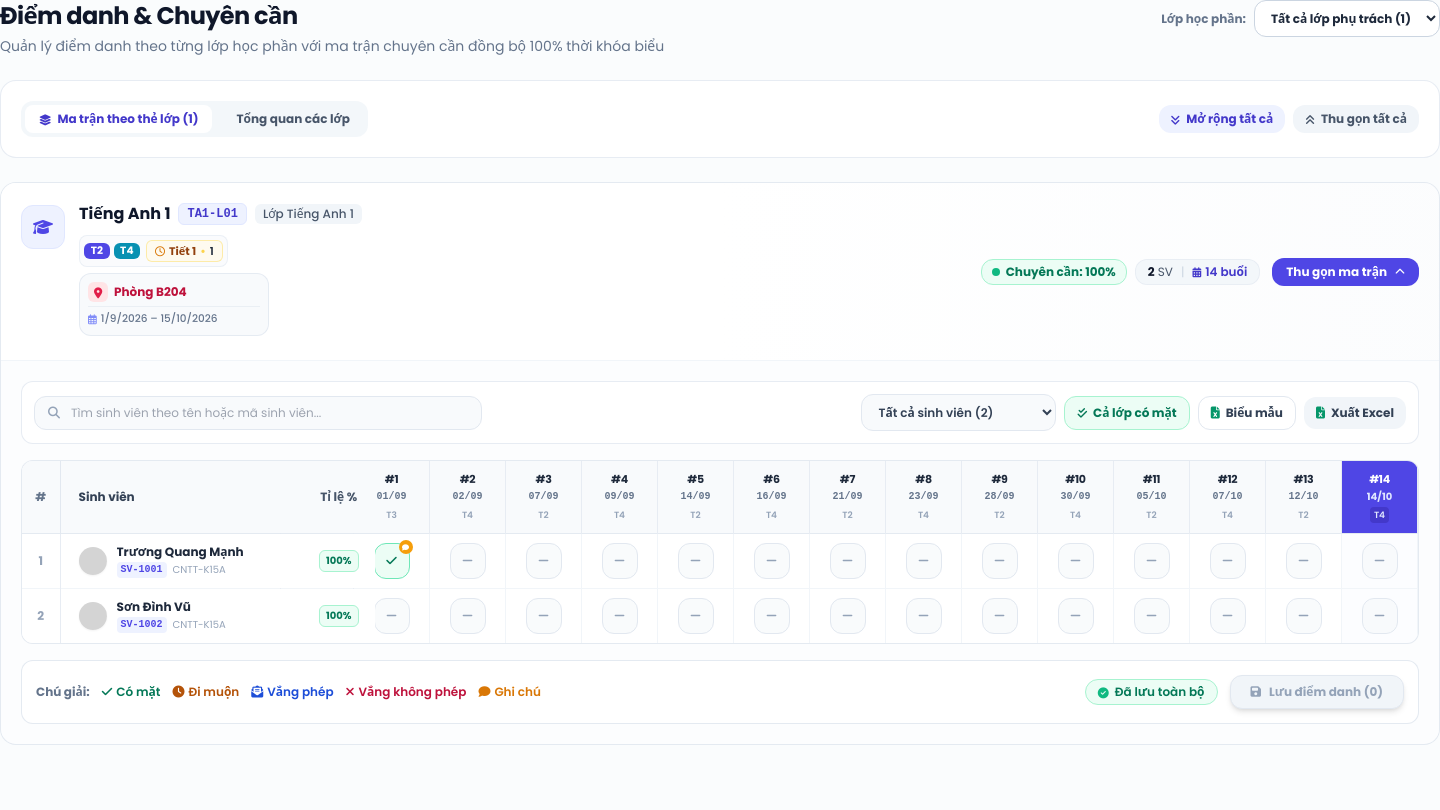
TeacherAttendance - LMS Matrix Attendance Grid › loads and binds existing note, evaluation, score, and status into modal when opened
Expected: the heading "Trương Quang Mạnh" is shown, [116,544,244,560]
Click the button named "Sinh viên: Trương Quang Mạnh Buổi #1 (01/09) Trạng thái: Có" at (392, 561), box [374,543,410,579]
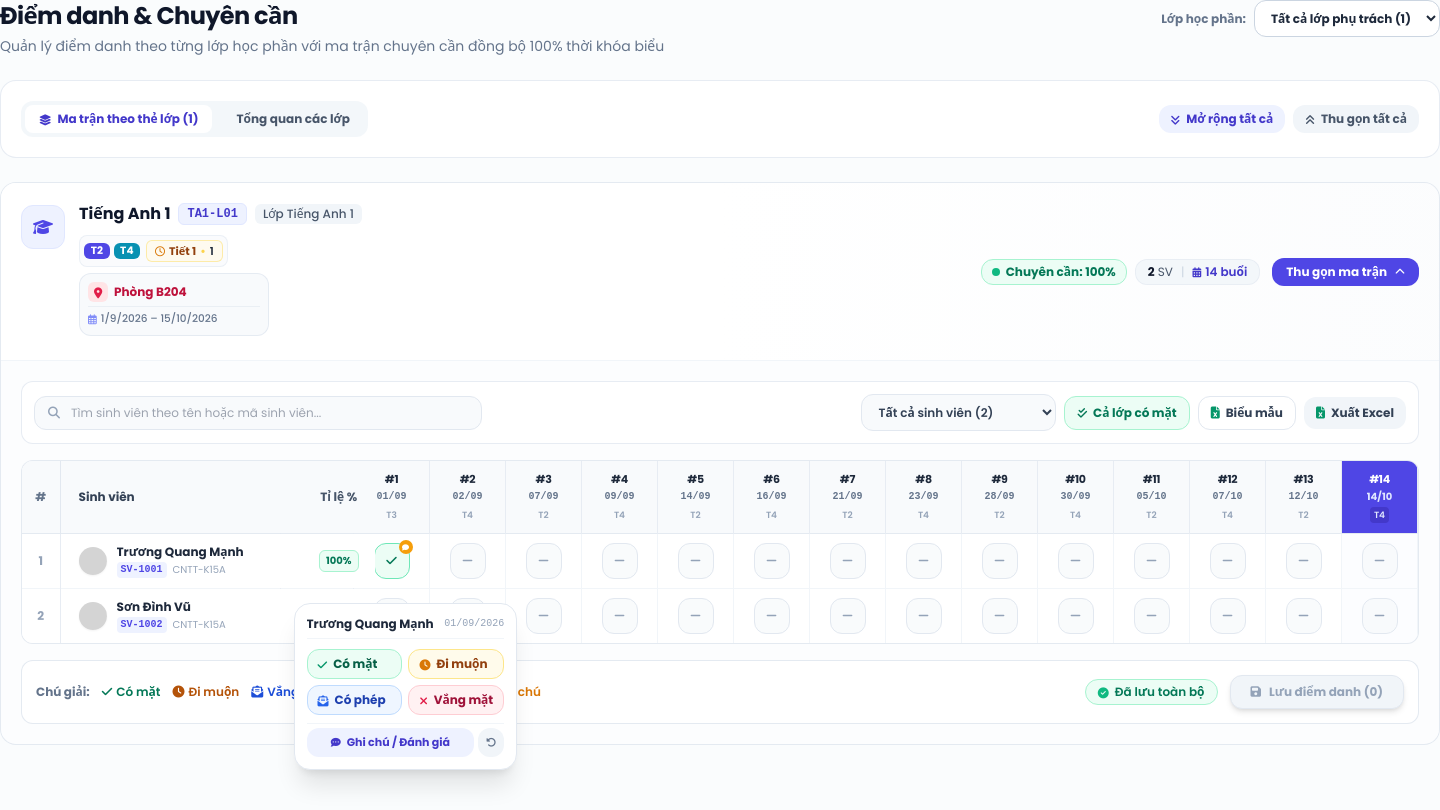
# Click "Ghi chú / Đánh giá" in popover
Click the button "Ghi chú / Đánh giá" at (390, 742), box [306,728,474,756]
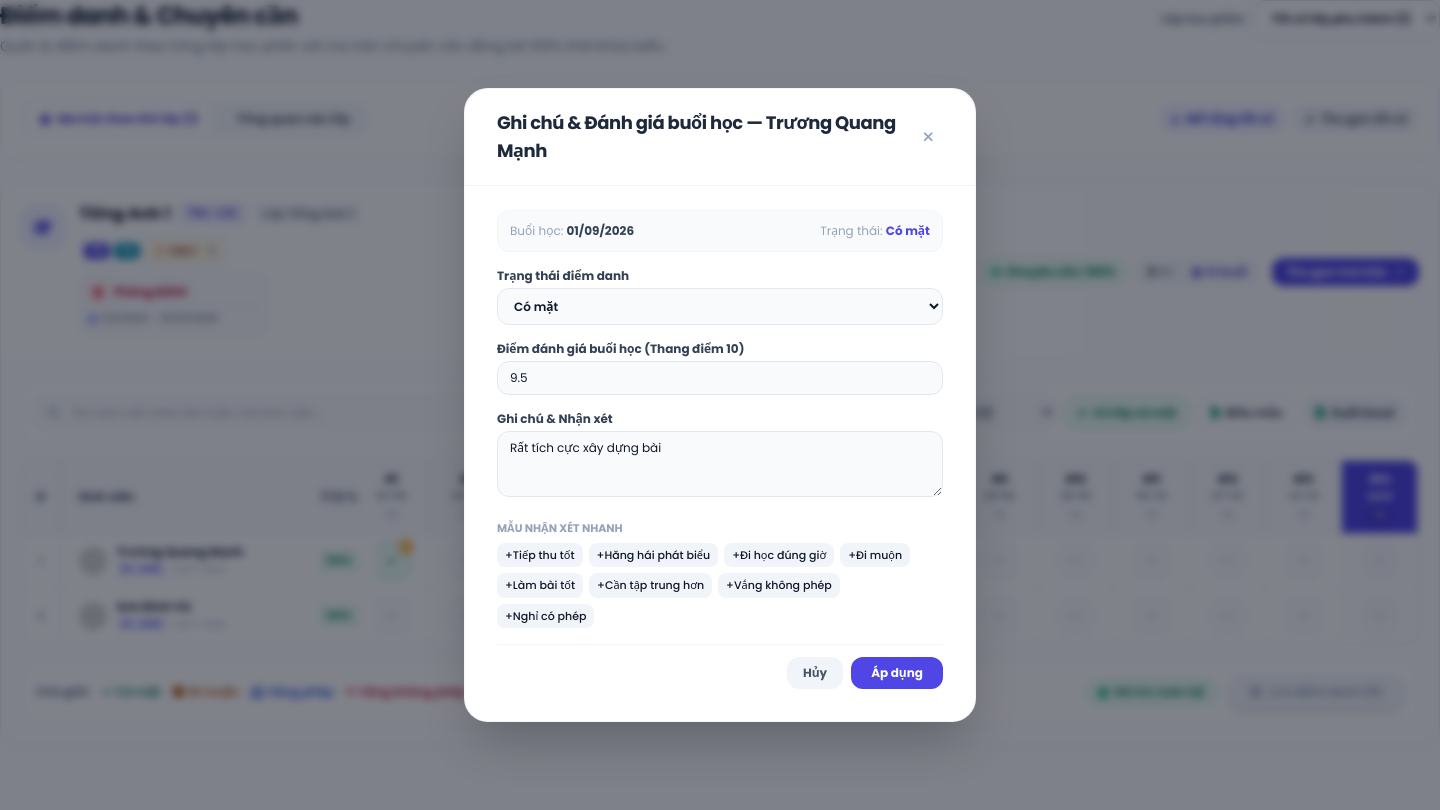
Expected: the heading "Ghi chú & Đánh giá buổi học — Trương Quang Mạnh" is shown, [497,109,914,165]
Expected: the dropdown showing "Có mặt" is shown, [497,288,943,325]
Expected: the number field showing "9.5" is shown, [497,361,943,395]
# Verify updating note via quick tags or textarea works and saves
Replace the text in the text box showing "Rất tích cực xây dựng bài" with "Rất tích cực xây dựng bài; Làm bài tốt" at (720, 464), box [497,431,943,497]
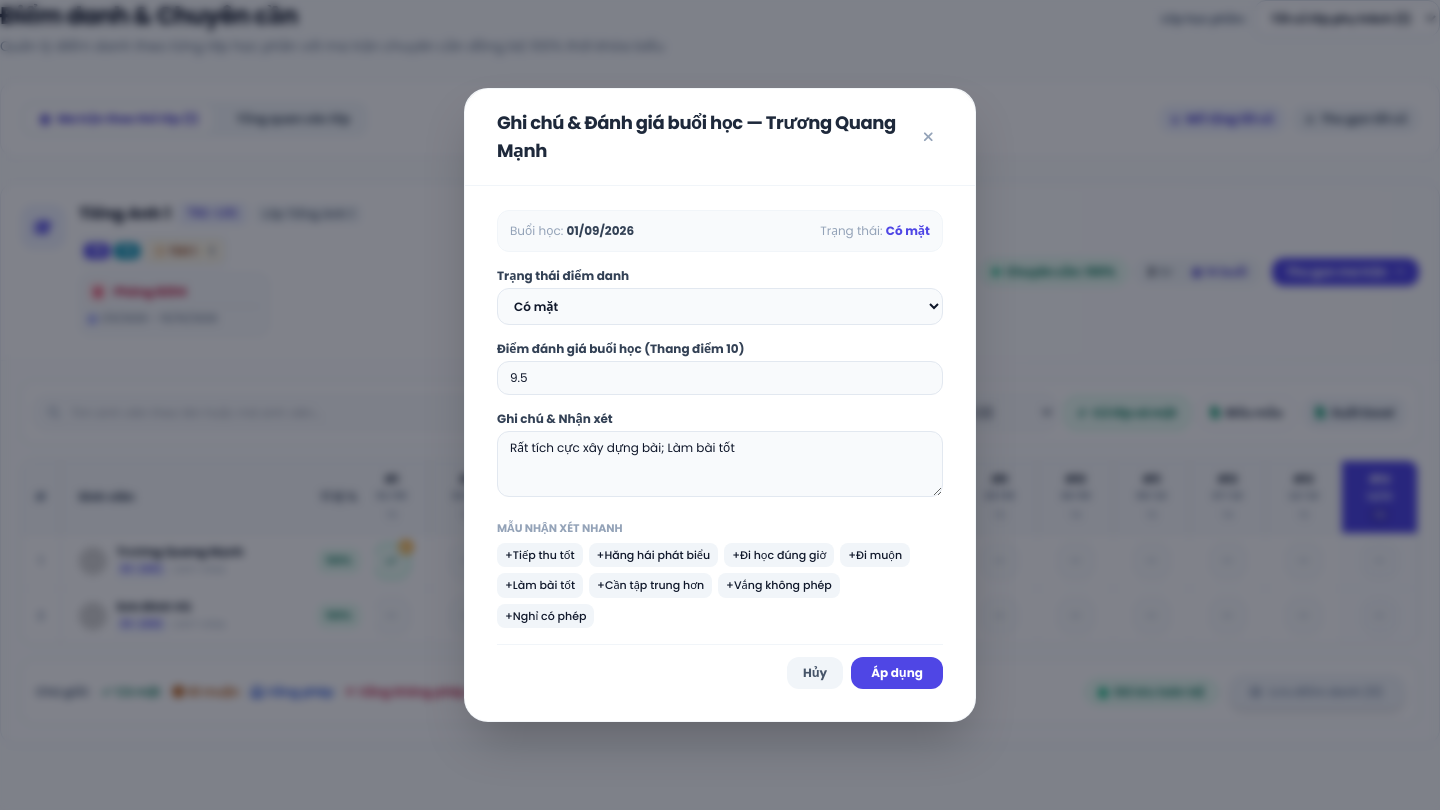
Click the button "Áp dụng" at (897, 673), box [851,657,943,689]
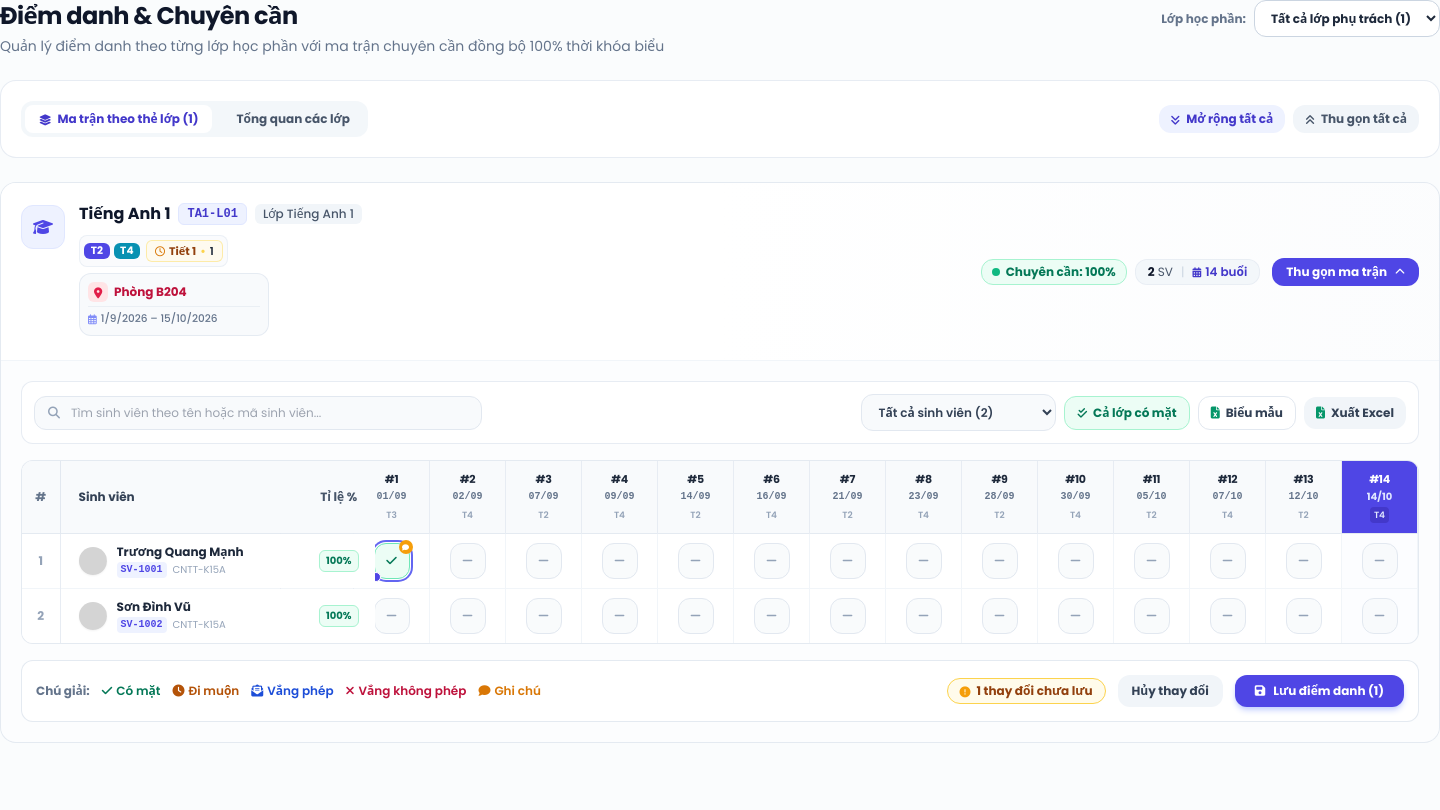
Expected: the heading "Ghi chú & Đánh giá buổi học — Trương Quang Mạnh" is gone
